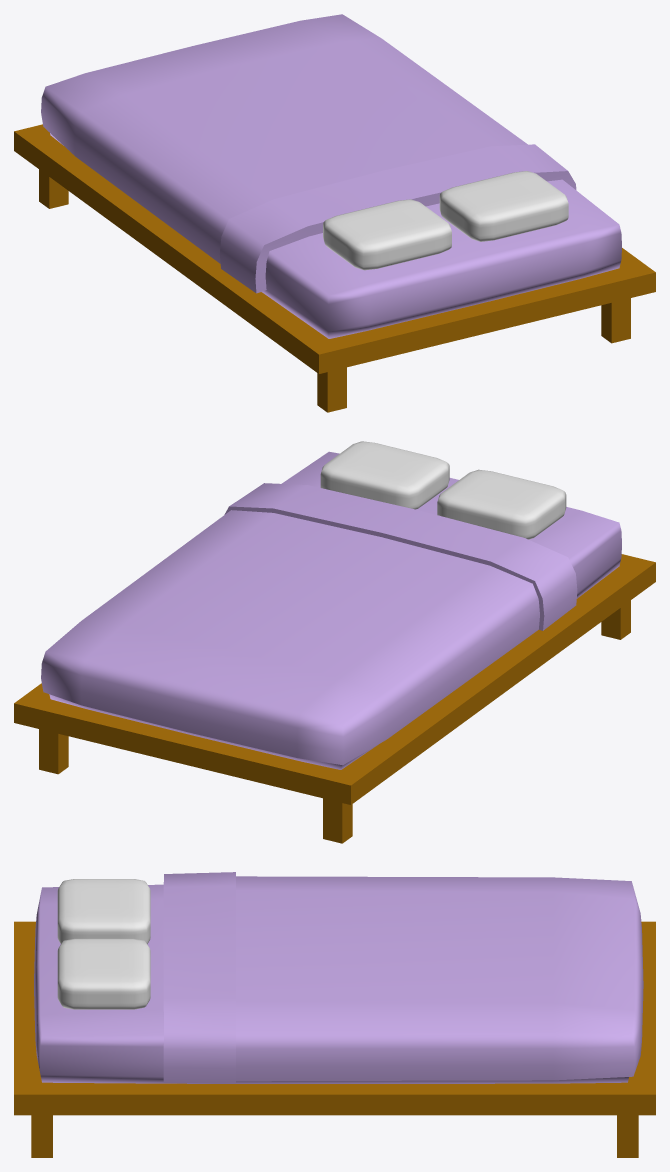
Rendered from bed.fbx.
3 views of the same model, one above another, from view 1: azimuth 30°, elevation 25°; view 2: azimuth 150°, elevation 25°; view 3: azimuth 270°, elevation 25° (orthographic). The views are drawn at different scales.
Visible parts, largest first — view 1: pCube2, pCube1, pCube4, pCube3; view 2: pCube2, pCube1, pCube3, pCube4; view 3: pCube2, pCube1, pCube4, pCube3.
Part boxes in pixels (x1=…): pCube2: x1=41, y1=14, x2=621, y2=338; pCube1: x1=14, y1=124, x2=655, y2=412; pCube4: x1=439, y1=171, x2=568, y2=241; pCube3: x1=323, y1=199, x2=451, y2=270; pCube2: x1=41, y1=451, x2=621, y2=769; pCube1: x1=14, y1=554, x2=655, y2=843; pCube3: x1=437, y1=469, x2=566, y2=539; pCube4: x1=320, y1=441, x2=449, y2=509; pCube2: x1=34, y1=872, x2=643, y2=1083; pCube1: x1=14, y1=921, x2=655, y2=1157; pCube4: x1=57, y1=938, x2=150, y2=1009; pCube3: x1=57, y1=879, x2=150, y2=943.
Bounding box in the file's own units: 20.33 × 8.24 × 31.87.
